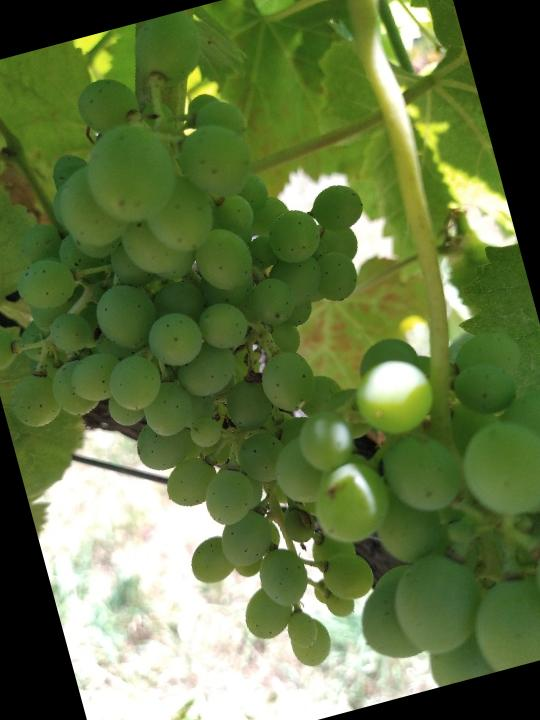grape: (0, 0, 479, 720)
